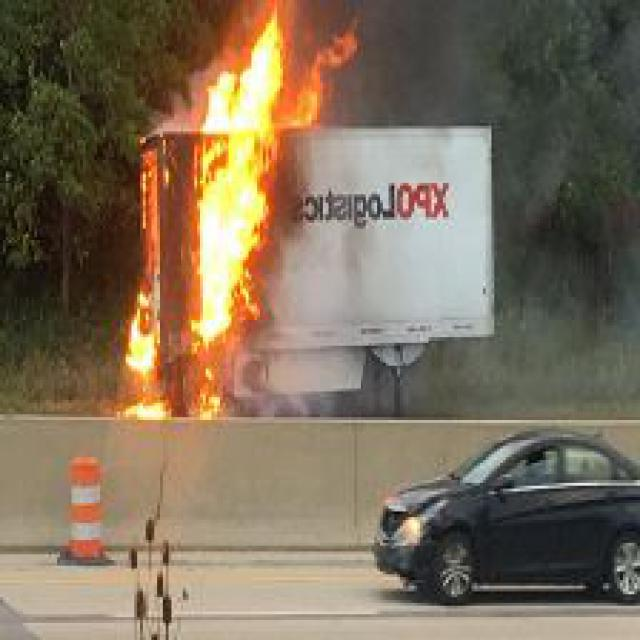fire: (88, 17, 366, 423)
